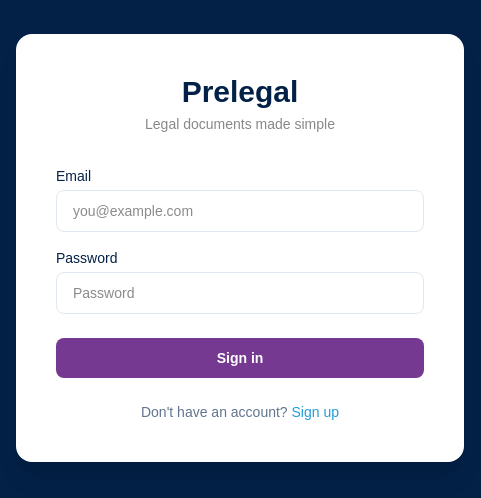
it: LoginPage › shows error on signin failure
This screenshot has width=481, height=498.
Type "a@t.com" into the field with placeholder "you@example.com" at (240,211), box [56,190,424,232]
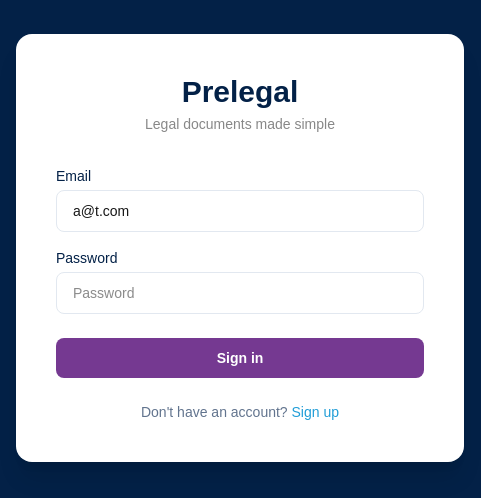
Type "wrong" into the password field with placeholder "Password" at (240,293), box [56,272,424,314]
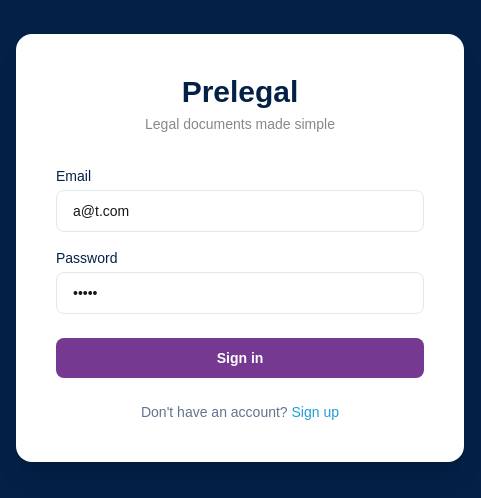
Click the button "Sign in" at (240,358), box [56,338,424,378]
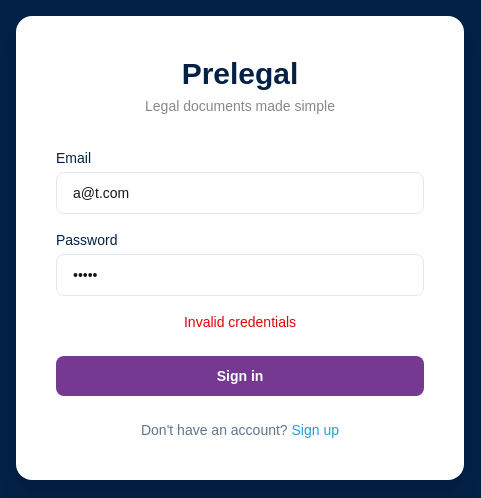
Now the text "Invalid credentials" is shown, box [184,314,296,330]
